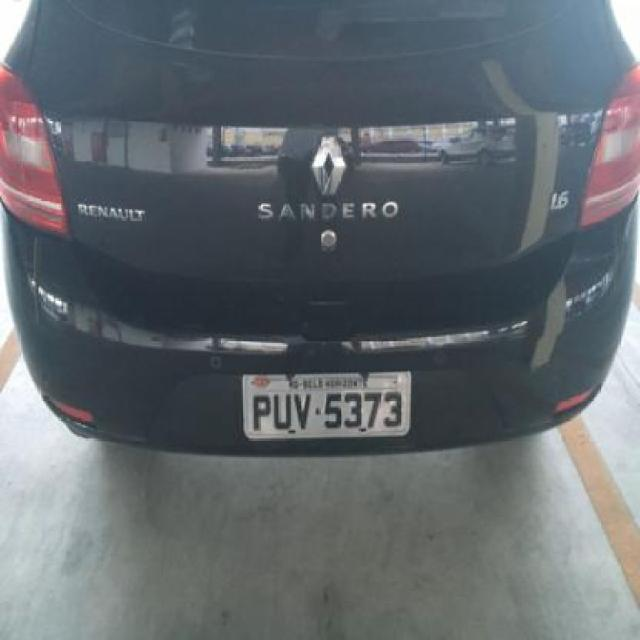old_plate: (236, 367, 416, 444)
